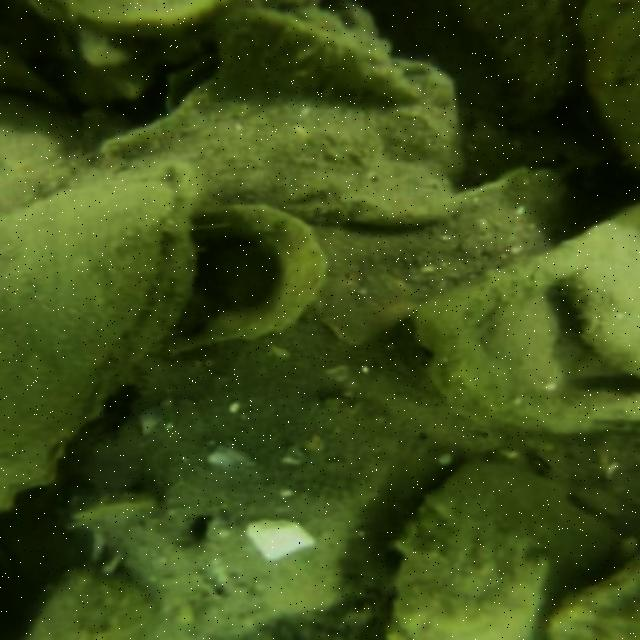Oyster-Closed: (77, 390, 411, 638), (4, 160, 193, 501), (83, 63, 455, 225), (408, 196, 638, 432), (313, 164, 572, 336), (393, 463, 614, 632), (148, 200, 330, 360), (209, 3, 409, 96), (444, 0, 576, 132), (205, 496, 359, 606), (570, 0, 638, 174), (562, 232, 638, 376), (4, 94, 77, 210), (36, 564, 154, 629), (549, 557, 638, 633)
